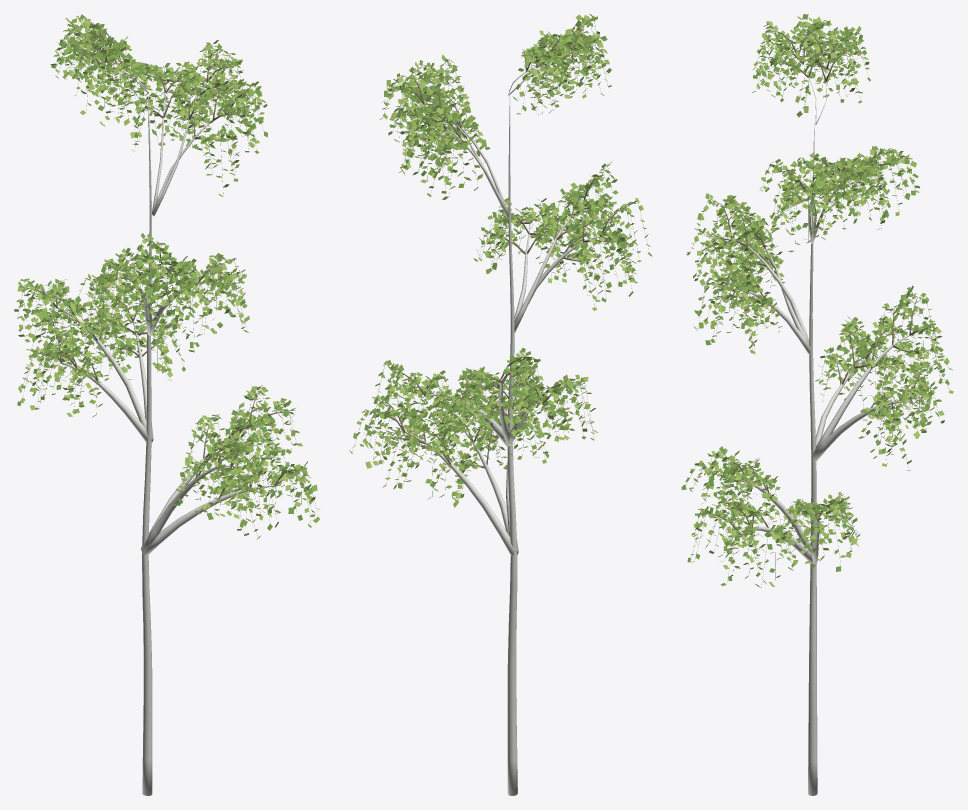
File: birch_1293_2026_L0.glb
The picture shows the model from 3 angles, left to right: view 1: azimuth 30°, elevation 25°; view 2: azimuth 150°, elevation 25°; view 3: azimuth 270°, elevation 25°; orthographic projection. The views are drawn at different scales.
Parts seen in each view (by area): view 1: birch_part1, birch_part3, birch_part2, birch_part0, birch_trunk, birch_part94, birch_part99, birch_part95, birch_part90; view 2: birch_part1, birch_part2, birch_part3, birch_part0, birch_trunk, birch_part89, birch_part96; view 3: birch_part3, birch_part2, birch_part1, birch_part0, birch_trunk, birch_part95, birch_part100.
Boxes of the visible parts, left/top/right/bottom form: birch_part1: left=17, top=14, right=319, bottom=530; birch_part3: left=16, top=15, right=315, bottom=539; birch_part2: left=14, top=16, right=319, bottom=531; birch_part0: left=17, top=18, right=315, bottom=535; birch_trunk: left=142, top=93, right=152, bottom=795; birch_part94: left=142, top=485, right=274, bottom=556; birch_part99: left=141, top=465, right=230, bottom=555; birch_part95: left=57, top=307, right=152, bottom=436; birch_part90: left=62, top=362, right=151, bottom=442; birch_part1: left=349, top=14, right=652, bottom=498; birch_part2: left=353, top=16, right=648, bottom=500; birch_part3: left=353, top=14, right=650, bottom=507; birch_part0: left=352, top=16, right=649, bottom=497; birch_trunk: left=507, top=96, right=517, bottom=795; birch_part89: left=405, top=432, right=516, bottom=556; birch_part96: left=514, top=211, right=576, bottom=332; birch_part3: left=685, top=16, right=953, bottom=587; birch_part2: left=681, top=19, right=949, bottom=585; birch_part1: left=681, top=14, right=948, bottom=580; birch_part0: left=686, top=18, right=944, bottom=585; birch_trunk: left=808, top=124, right=817, bottom=795; birch_part95: left=812, top=334, right=909, bottom=454; birch_part100: left=812, top=400, right=909, bottom=461.
Size of the model in its own units: 4.09 by 11.8 by 3.9.
Materials: 5 (5 with a texture image).
